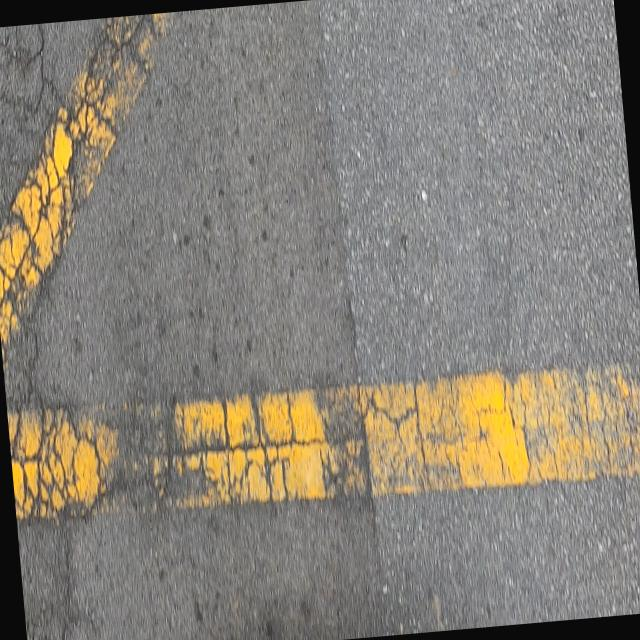Retak-Buaya: (7, 368, 640, 514), (0, 11, 179, 367), (0, 23, 56, 222)
